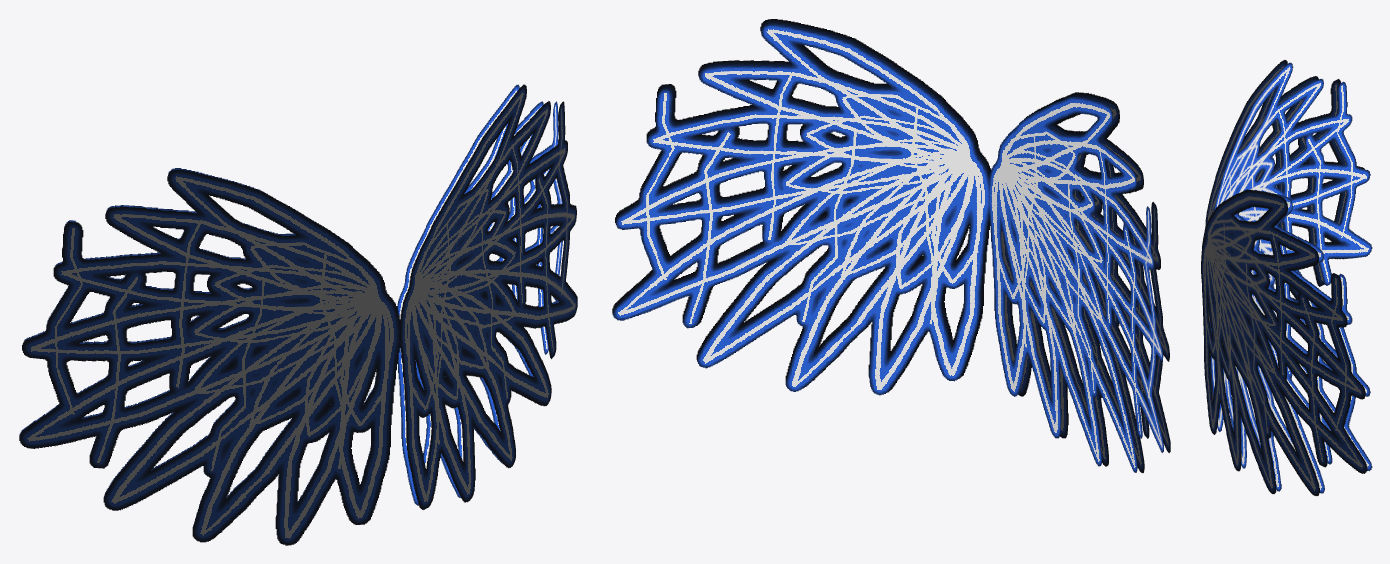
The model's file is volt_outline_wings.glb.
3 views of the same model, side by side, from view 1: azimuth 30°, elevation 25°; view 2: azimuth 150°, elevation 25°; view 3: azimuth 270°, elevation 25° (orthographic). The views are drawn at different scales.
Visible parts, largest first — view 1: Volt Outline Wings Wing Right, Volt Outline Wings Wing Left; view 2: Volt Outline Wings Wing Left, Volt Outline Wings Wing Right; view 3: Volt Outline Wings Wing Left, Volt Outline Wings Wing Right.
Part boxes in pixels (x1=…): Volt Outline Wings Wing Right: x1=19, y1=168, x2=401, y2=545; Volt Outline Wings Wing Left: x1=397, y1=84, x2=577, y2=509; Volt Outline Wings Wing Left: x1=612, y1=19, x2=990, y2=395; Volt Outline Wings Wing Right: x1=989, y1=92, x2=1170, y2=472; Volt Outline Wings Wing Left: x1=1201, y1=189, x2=1372, y2=495; Volt Outline Wings Wing Right: x1=1201, y1=60, x2=1372, y2=400.
Bounding box in the file's own units: 1.96 × 1.27 × 0.6465.
2 materials, 2 textured.
